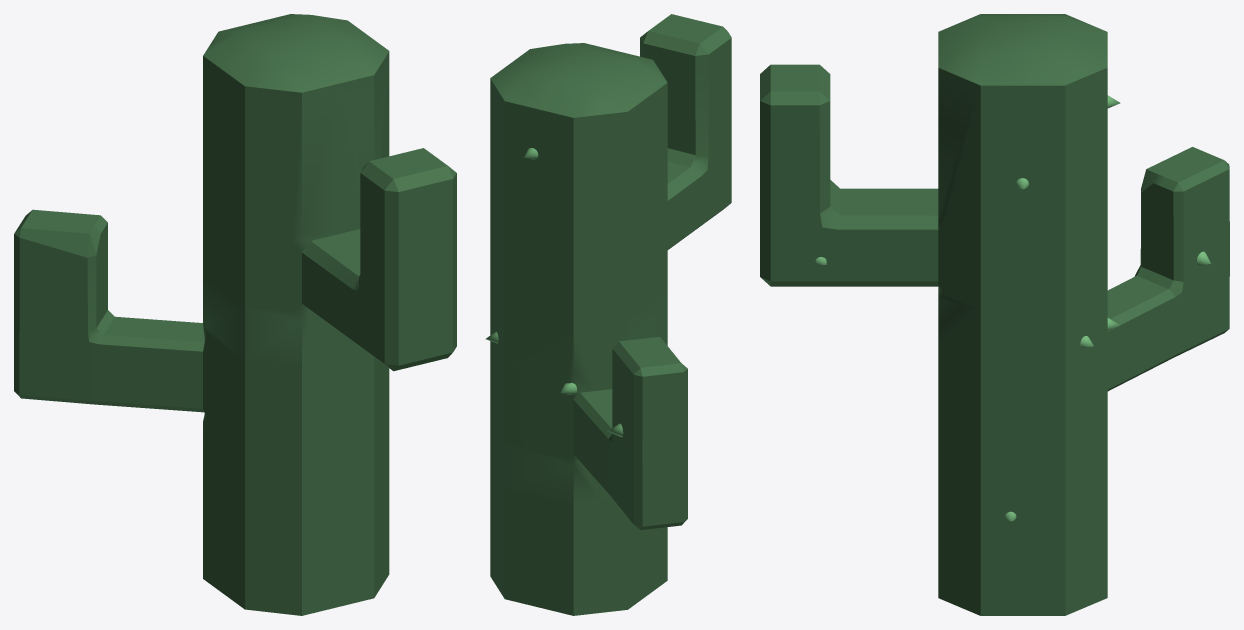
File: Cactus.fbx
The picture shows the model from 3 angles, left to right: view 1: azimuth 30°, elevation 25°; view 2: azimuth 150°, elevation 25°; view 3: azimuth 270°, elevation 25°; orthographic projection. The views are drawn at different scales.
Parts seen in each view (by area): view 1: pCone10; view 2: pCone10; view 3: pCone10.
Part boxes in pixels (x1,y1,x2,y2): pCone10: (14,14,456,615); pCone10: (485,14,731,615); pCone10: (760,14,1229,615).
Bounding box in the file's own units: 1.93 × 3.55 × 2.77.
